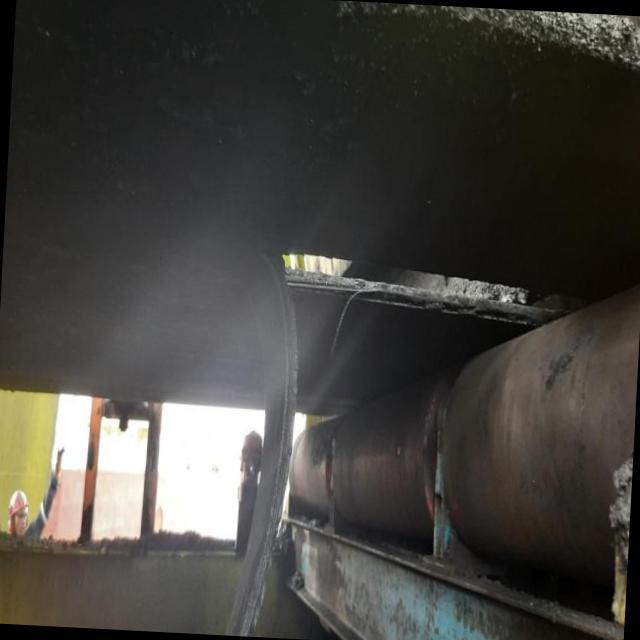Tear: (275, 246, 534, 326)
